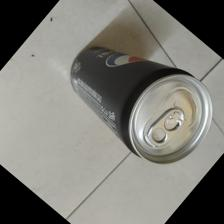Pepsi: (66, 45, 213, 166)
